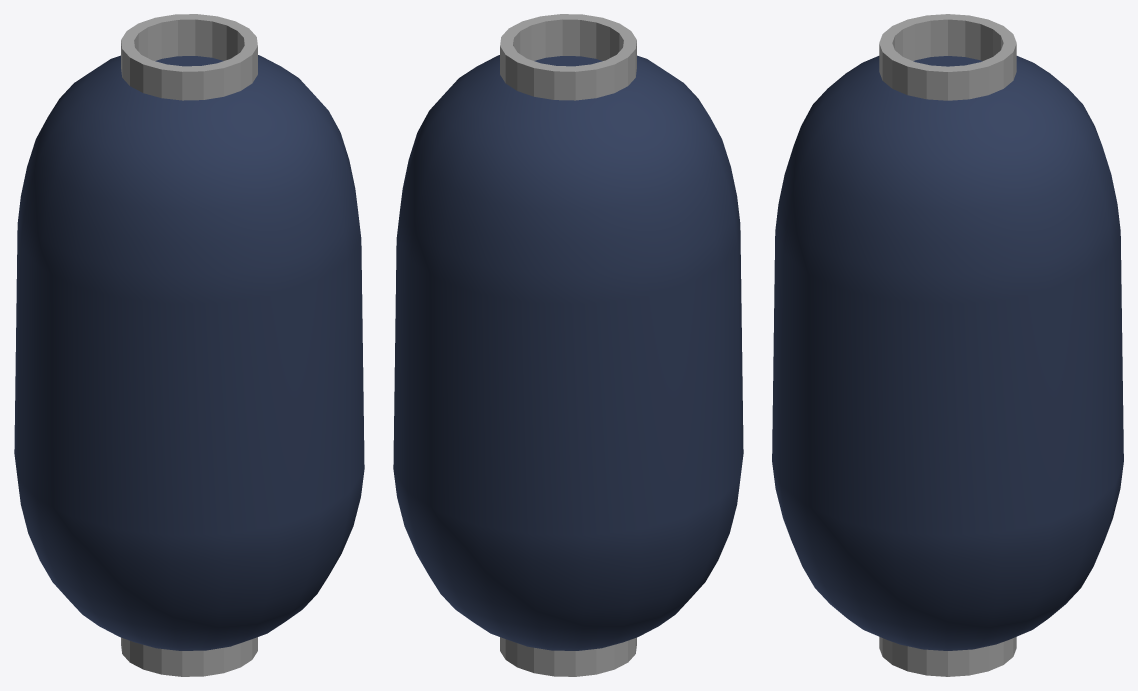
Rendered from Lantern02.fbx.
3 views of the same model, side by side, from view 1: azimuth 30°, elevation 25°; view 2: azimuth 150°, elevation 25°; view 3: azimuth 270°, elevation 25° (orthographic).
Visible parts, largest first — view 1: Lantern02_GEO; view 2: Lantern02_GEO; view 3: Lantern02_GEO.
Boxes of the visible parts, box(x1,y1,x2,y2) form: Lantern02_GEO: box(14, 14, 364, 676); Lantern02_GEO: box(393, 14, 743, 676); Lantern02_GEO: box(772, 14, 1123, 676).
Size of the model in its own units: 58.55 by 111 by 58.55.
